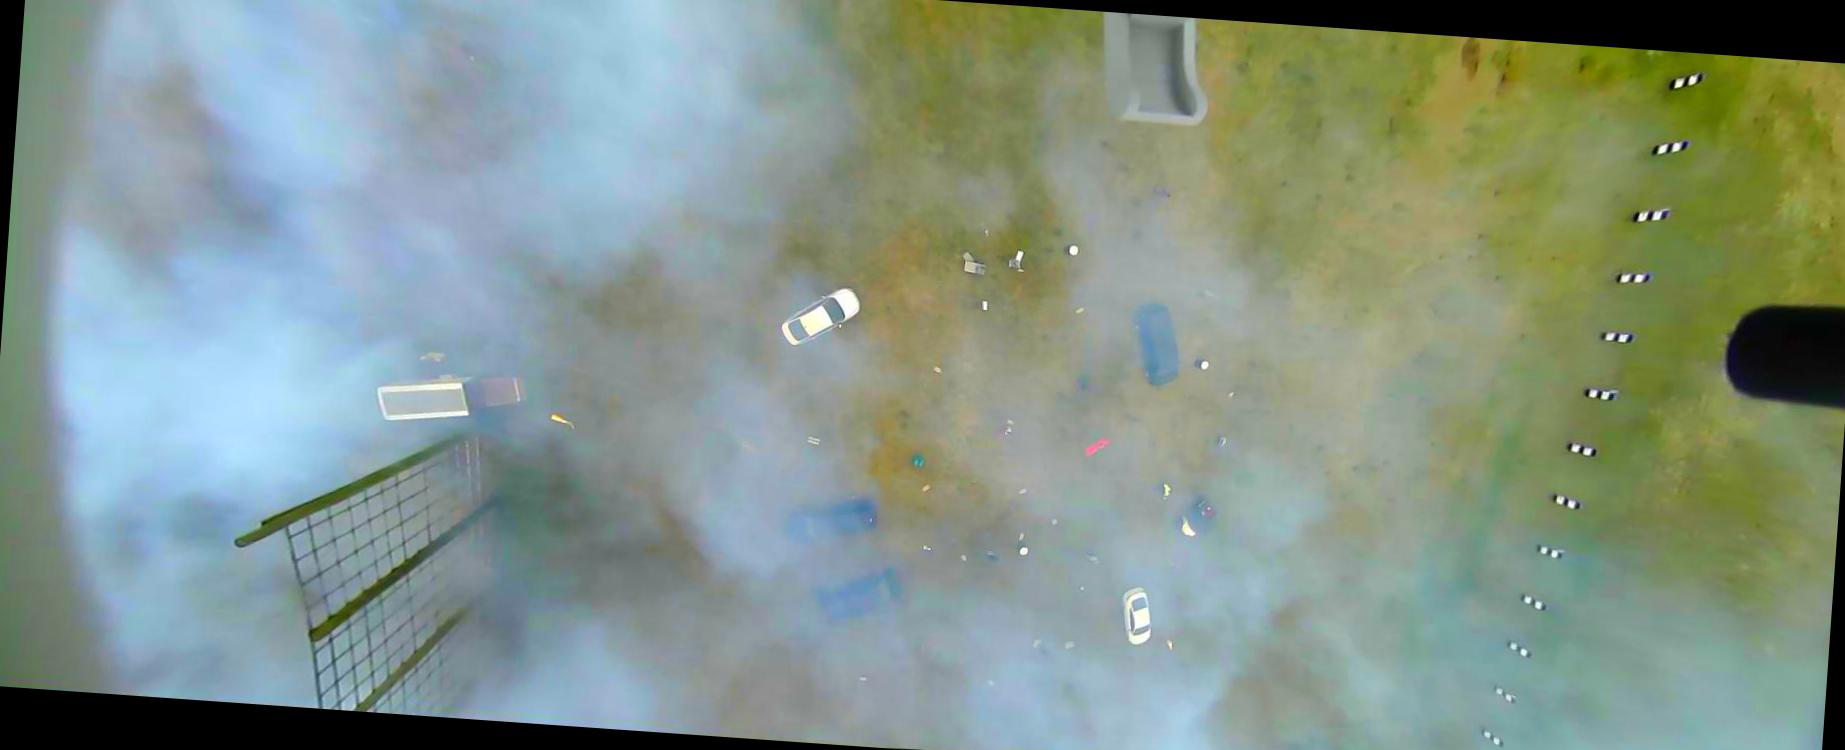vehicle: (813, 565, 904, 631), (778, 281, 861, 349), (784, 491, 878, 547), (1126, 300, 1183, 387), (1118, 585, 1153, 648), (1174, 495, 1218, 540)
